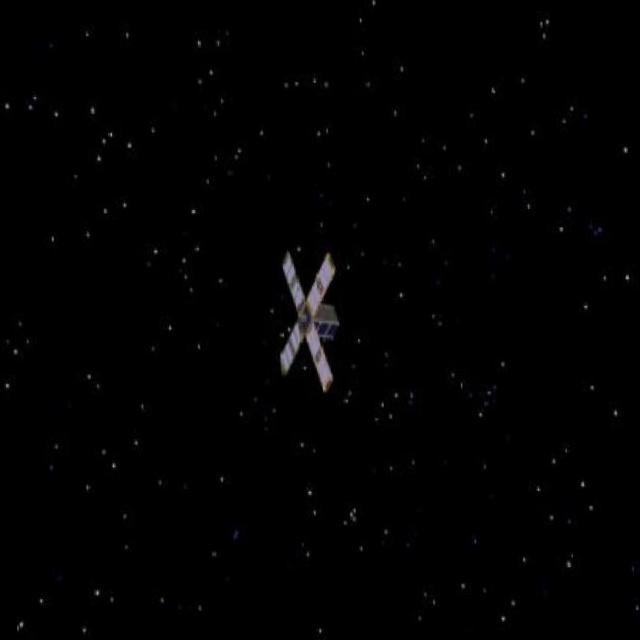satellite: (257, 244, 356, 399)
